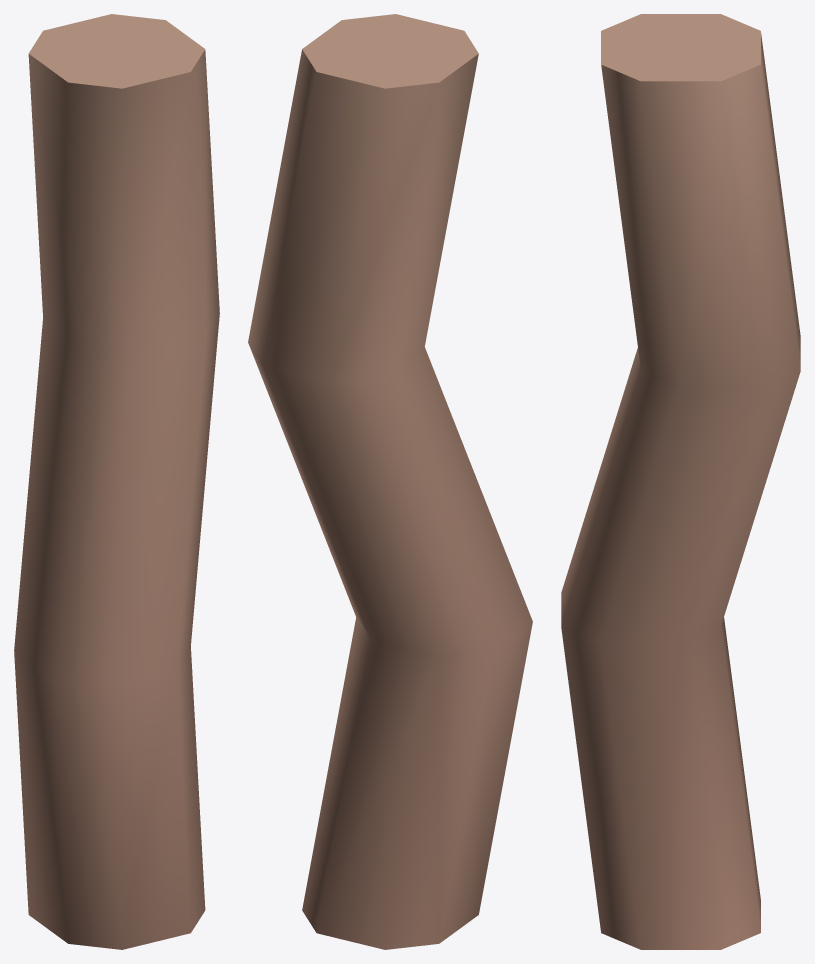
The model's file is organic-twig-b.glb.
3 renders of one model, left to right at view 1: azimuth 30°, elevation 25°; view 2: azimuth 150°, elevation 25°; view 3: azimuth 270°, elevation 25°, orthographic.
Parts seen in each view (by area): view 1: organic-twig-b; view 2: organic-twig-b; view 3: organic-twig-b.
Part boxes in pixels (<box>): organic-twig-b: <box>14,14,219,949</box>; organic-twig-b: <box>248,14,532,949</box>; organic-twig-b: <box>561,14,800,949</box>.
Size of the model in its own units: 0.075 by 0.3 by 0.075.
